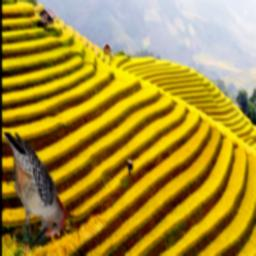Woodpecker: (5, 132, 66, 243)
